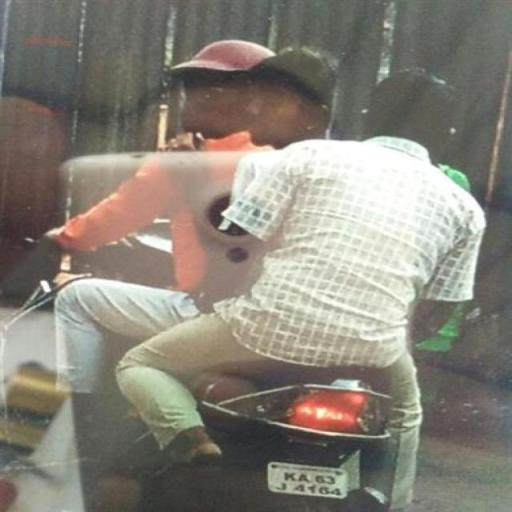tripple riding: (37, 34, 496, 370)
